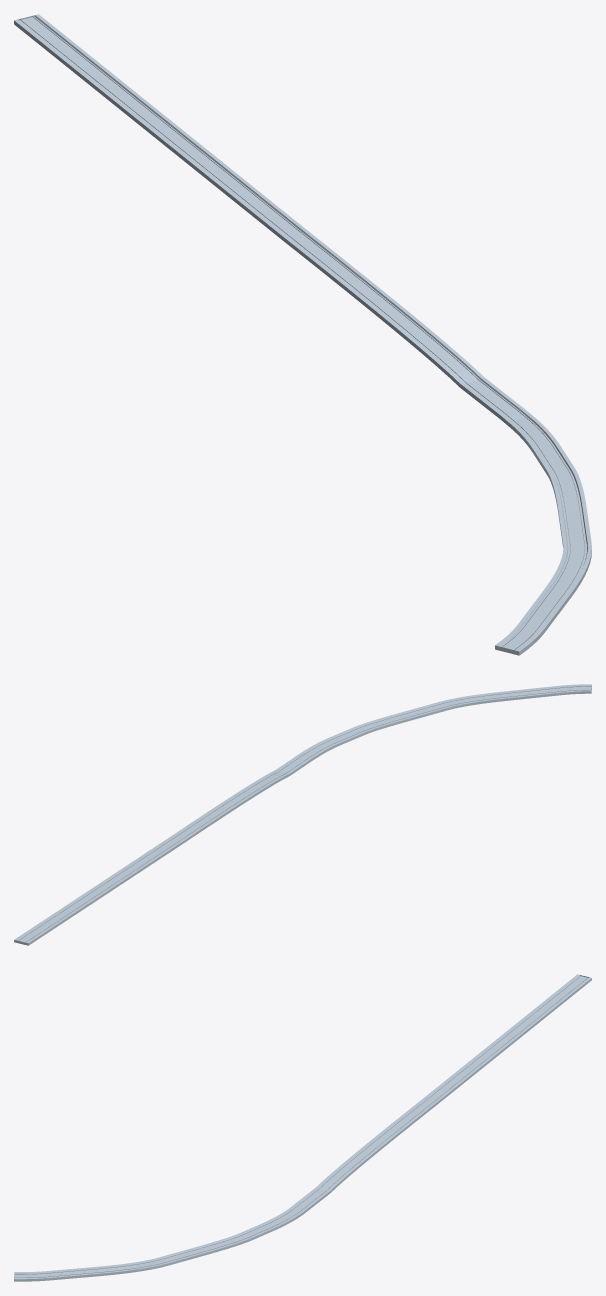
Rendered from Rail_-2_-2.fbx.
3 views of the same model, one above another, from view 1: azimuth 30°, elevation 25°; view 2: azimuth 150°, elevation 25°; view 3: azimuth 330°, elevation 25° (orthographic). The views are drawn at different scales.
Visible parts, largest first — view 1: Rail_-2_-2; view 2: Rail_-2_-2; view 3: Rail_-2_-2.
Boxes of the visible parts, x1,y1,x2,y2 form: Rail_-2_-2: [14, 14, 591, 655]; Rail_-2_-2: [14, 684, 591, 945]; Rail_-2_-2: [14, 974, 591, 1281].
Bounding box in the file's own units: 12615 × 2048 × 60523.
